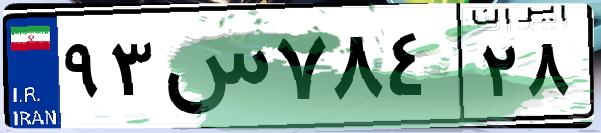2: (475, 38, 525, 113)
3: (110, 28, 158, 98)
4: (385, 28, 445, 110)
7: (270, 28, 330, 110)
8: (330, 28, 385, 110), (525, 38, 570, 115)
9: (57, 26, 110, 100)
س: (158, 20, 270, 120)
